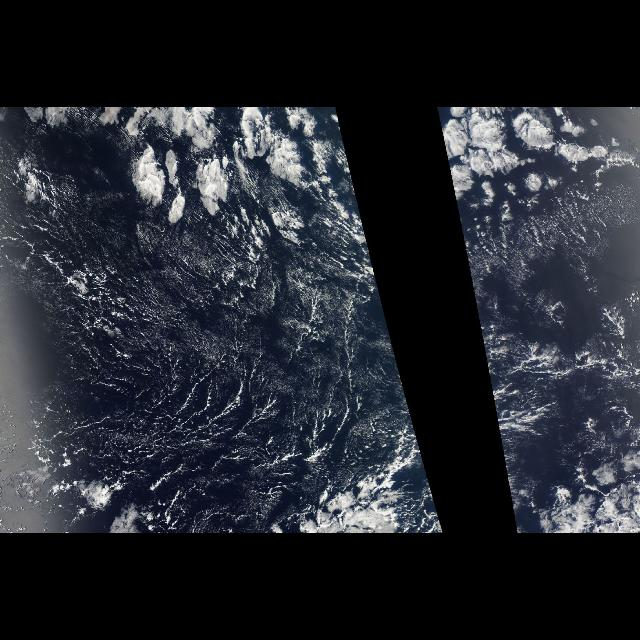Flower: (94, 108, 360, 246), (437, 107, 638, 217)
Gravel: (85, 364, 283, 466)
Sugar: (2, 224, 418, 486)
